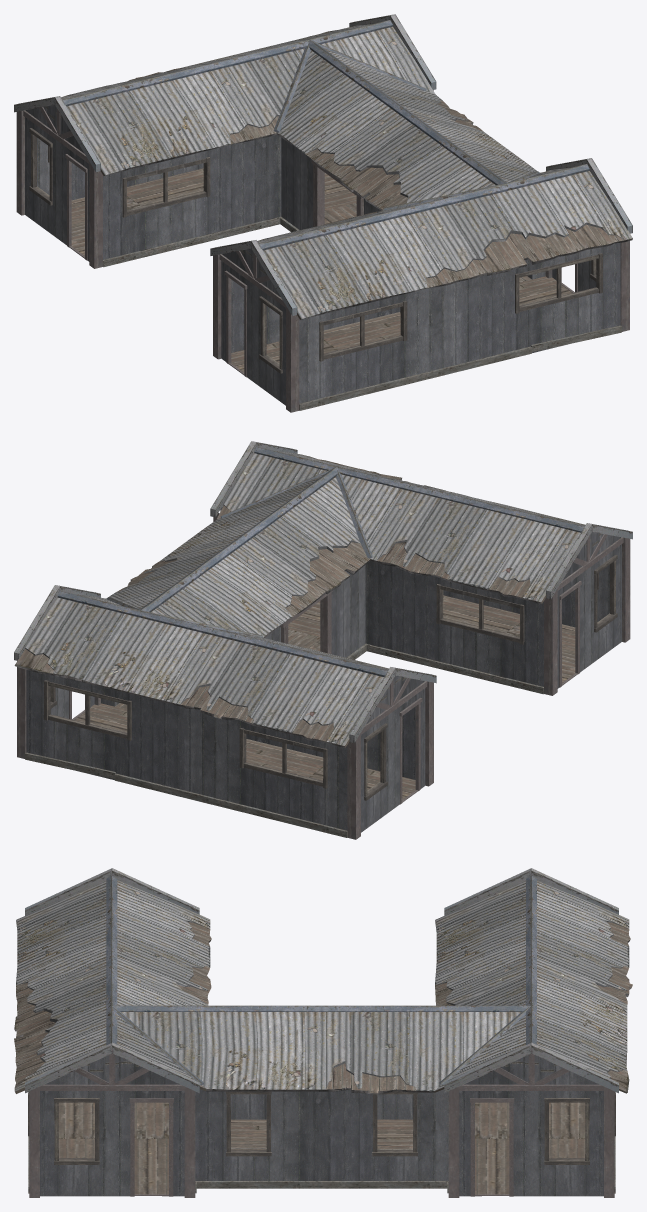
Rendered from Building_LinjgdDj002c.glb.
The picture shows the model from 3 angles, top to bottom: view 1: azimuth 30°, elevation 25°; view 2: azimuth 150°, elevation 25°; view 3: azimuth 270°, elevation 25°; orthographic projection. The views are drawn at different scales.
Parts seen in each view (by area): view 1: bmsl_linjgd_dj002c; view 2: bmsl_linjgd_dj002c; view 3: bmsl_linjgd_dj002c.
Part boxes in pixels (bbox=[...]): bmsl_linjgd_dj002c: bbox=[14, 14, 632, 412]; bmsl_linjgd_dj002c: bbox=[14, 441, 632, 839]; bmsl_linjgd_dj002c: bbox=[14, 868, 632, 1197].
Size of the model in its own units: 15.49 by 6.25 by 22.86.
Materials: 1 (1 with a texture image).
